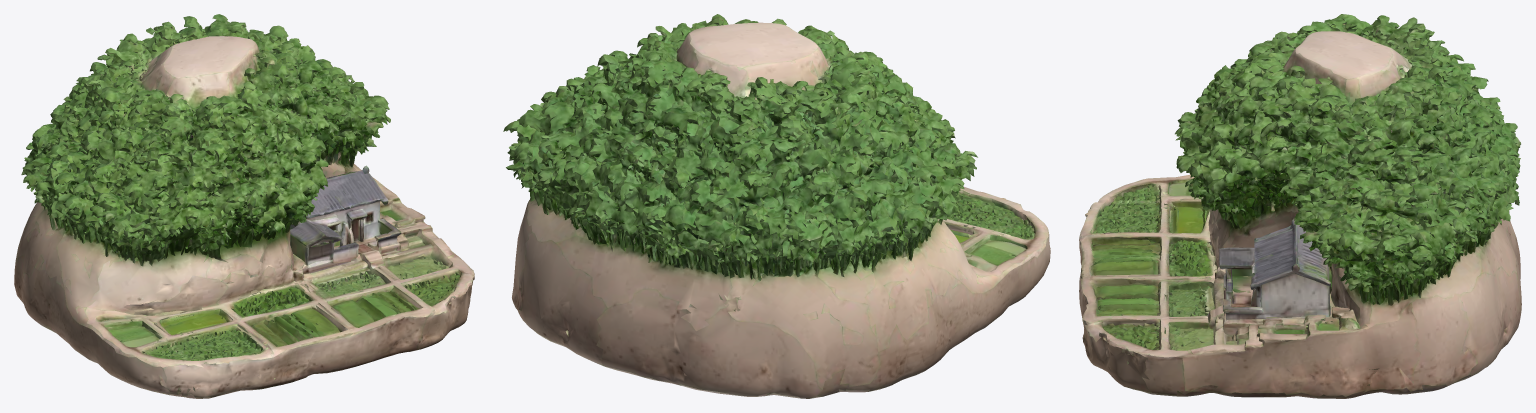
The model's file is shan_healthy.min.glb.
The picture shows the model from 3 angles, left to right: view 1: azimuth 30°, elevation 25°; view 2: azimuth 150°, elevation 25°; view 3: azimuth 270°, elevation 25°; orthographic projection. The views are drawn at different scales.
Visible parts, largest first — view 1: geometry_0; view 2: geometry_0; view 3: geometry_0.
Boxes of the visible parts, box(x1,y1,x2,y2) form: geometry_0: box(14, 14, 474, 398); geometry_0: box(503, 14, 1050, 398); geometry_0: box(1079, 14, 1521, 398).
Size of the model in its own units: 0.35 by 0.2309 by 0.35.
Materials: 1 (1 with a texture image).
